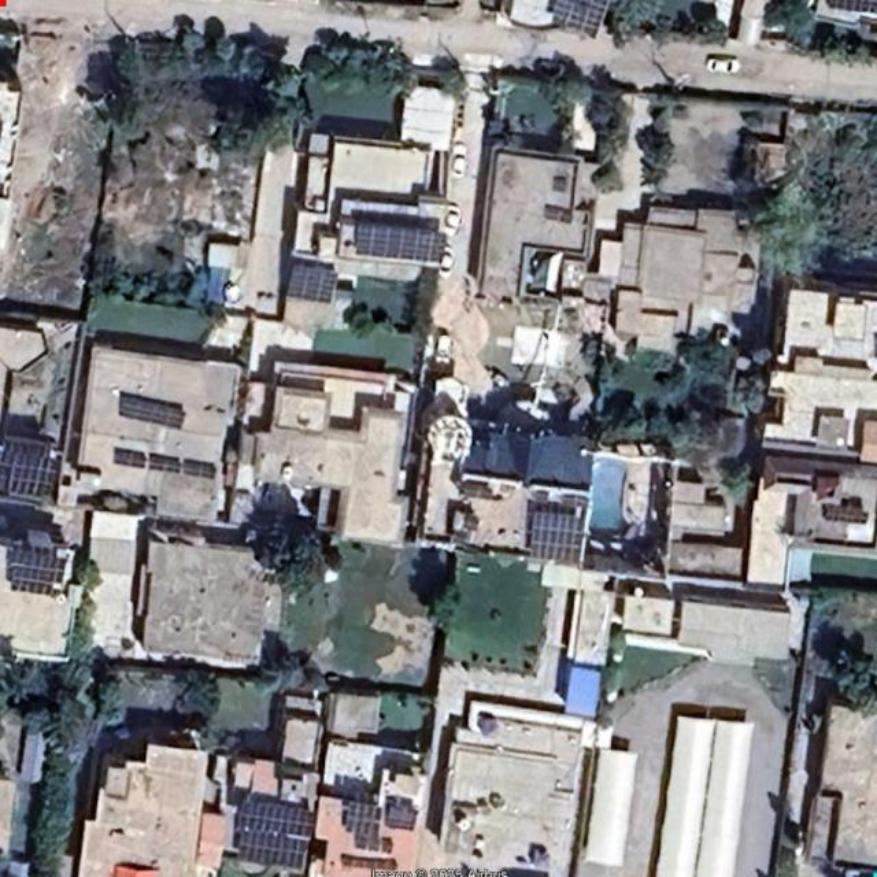Solarpanel: (235, 801, 317, 870), (356, 221, 444, 261), (0, 438, 52, 494), (11, 548, 69, 594), (531, 512, 582, 561), (551, 0, 611, 37), (287, 263, 335, 305), (120, 396, 185, 426), (347, 803, 381, 833), (149, 454, 182, 474), (183, 460, 214, 481), (829, 0, 876, 13), (115, 449, 144, 469)
